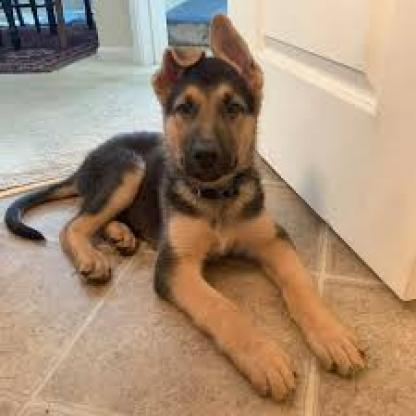German Sheperd: (10, 12, 369, 398)
